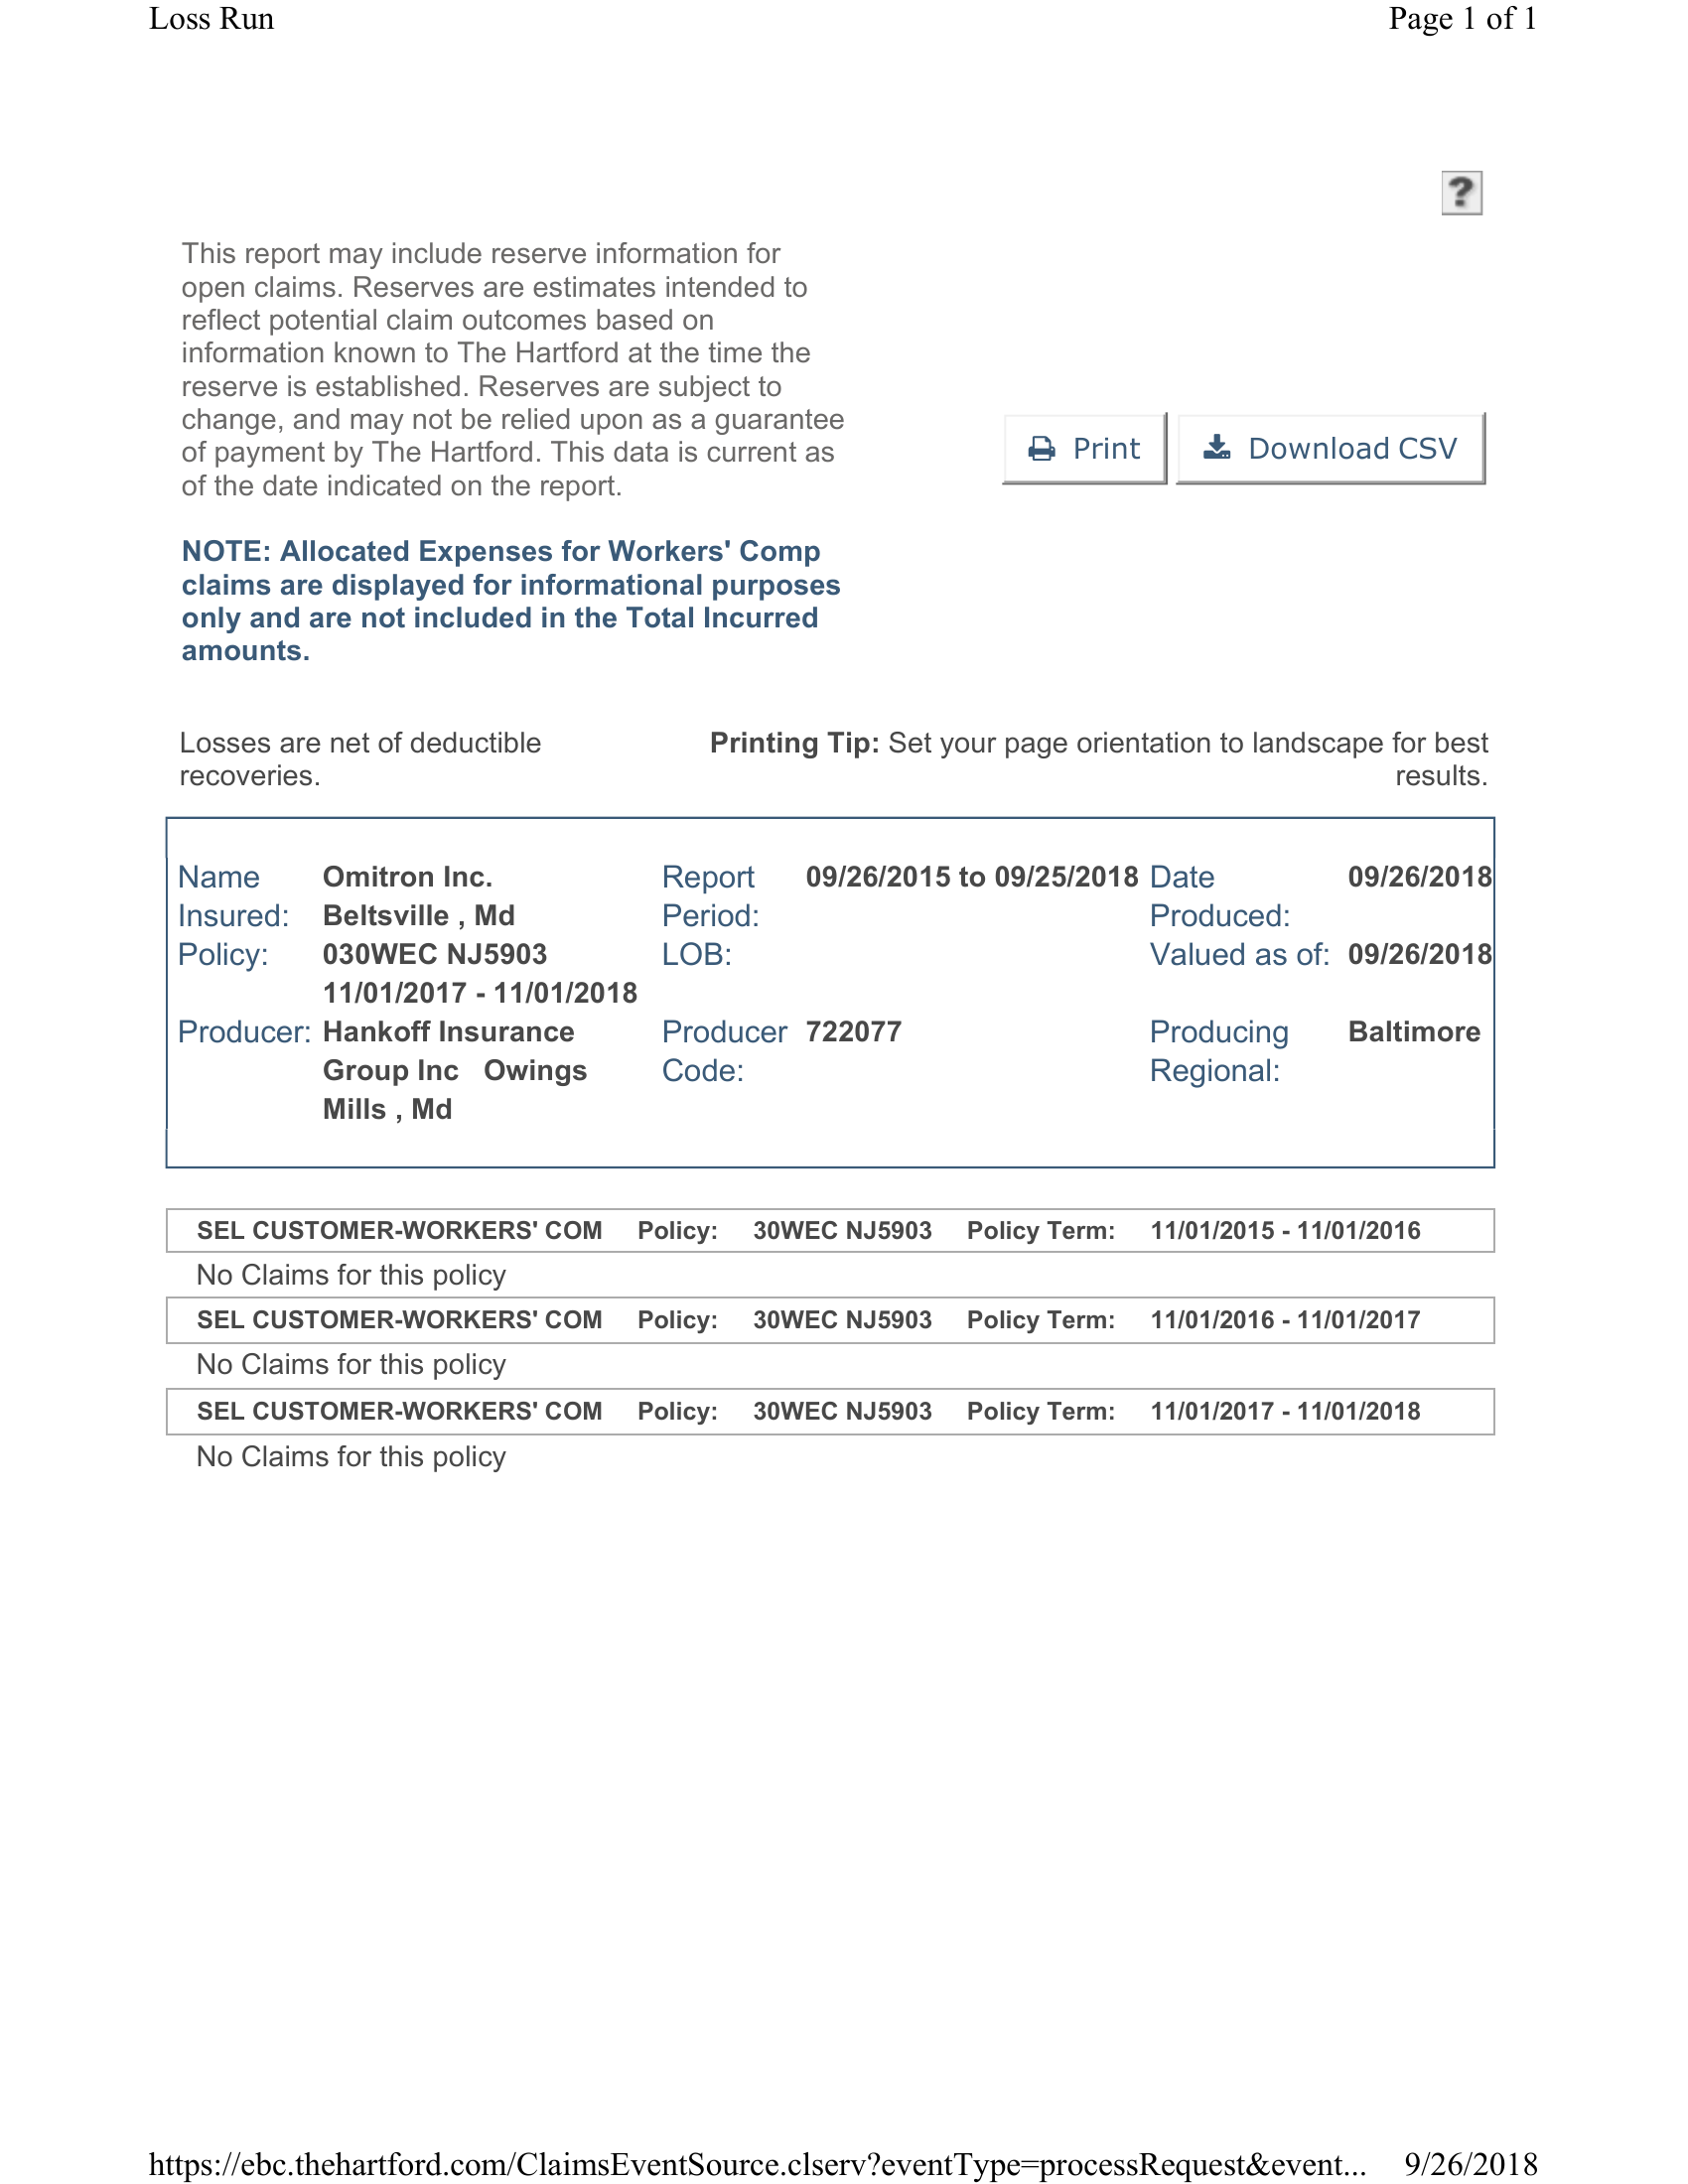No-loss: (145, 807, 1532, 1509)
